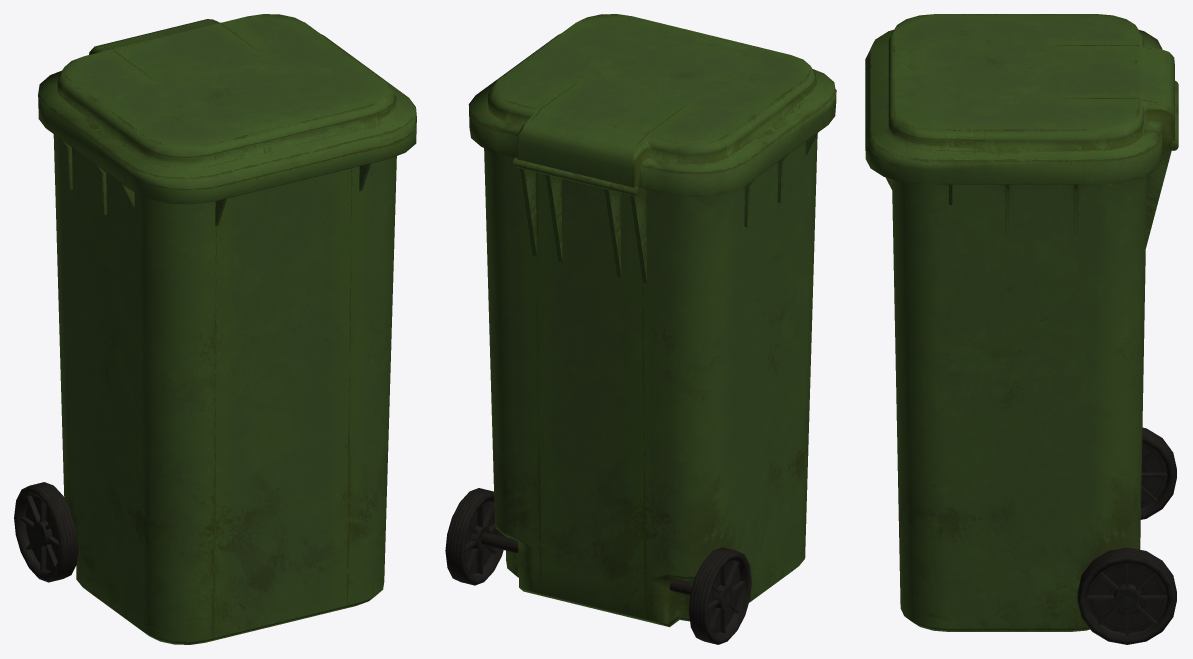
Rendered from Trash_bin1.fbx.
The picture shows the model from 3 angles, left to right: view 1: azimuth 30°, elevation 25°; view 2: azimuth 150°, elevation 25°; view 3: azimuth 270°, elevation 25°; orthographic projection. The views are drawn at different scales.
Parts seen in each view (by area): view 1: polySurface52; view 2: polySurface52; view 3: polySurface52.
Boxes of the visible parts, box(x1,y1,x2,y2) form: polySurface52: box(14, 14, 416, 644); polySurface52: box(445, 14, 836, 644); polySurface52: box(865, 14, 1178, 644).
Bounding box in the file's own units: 77 × 134 × 74.63.
